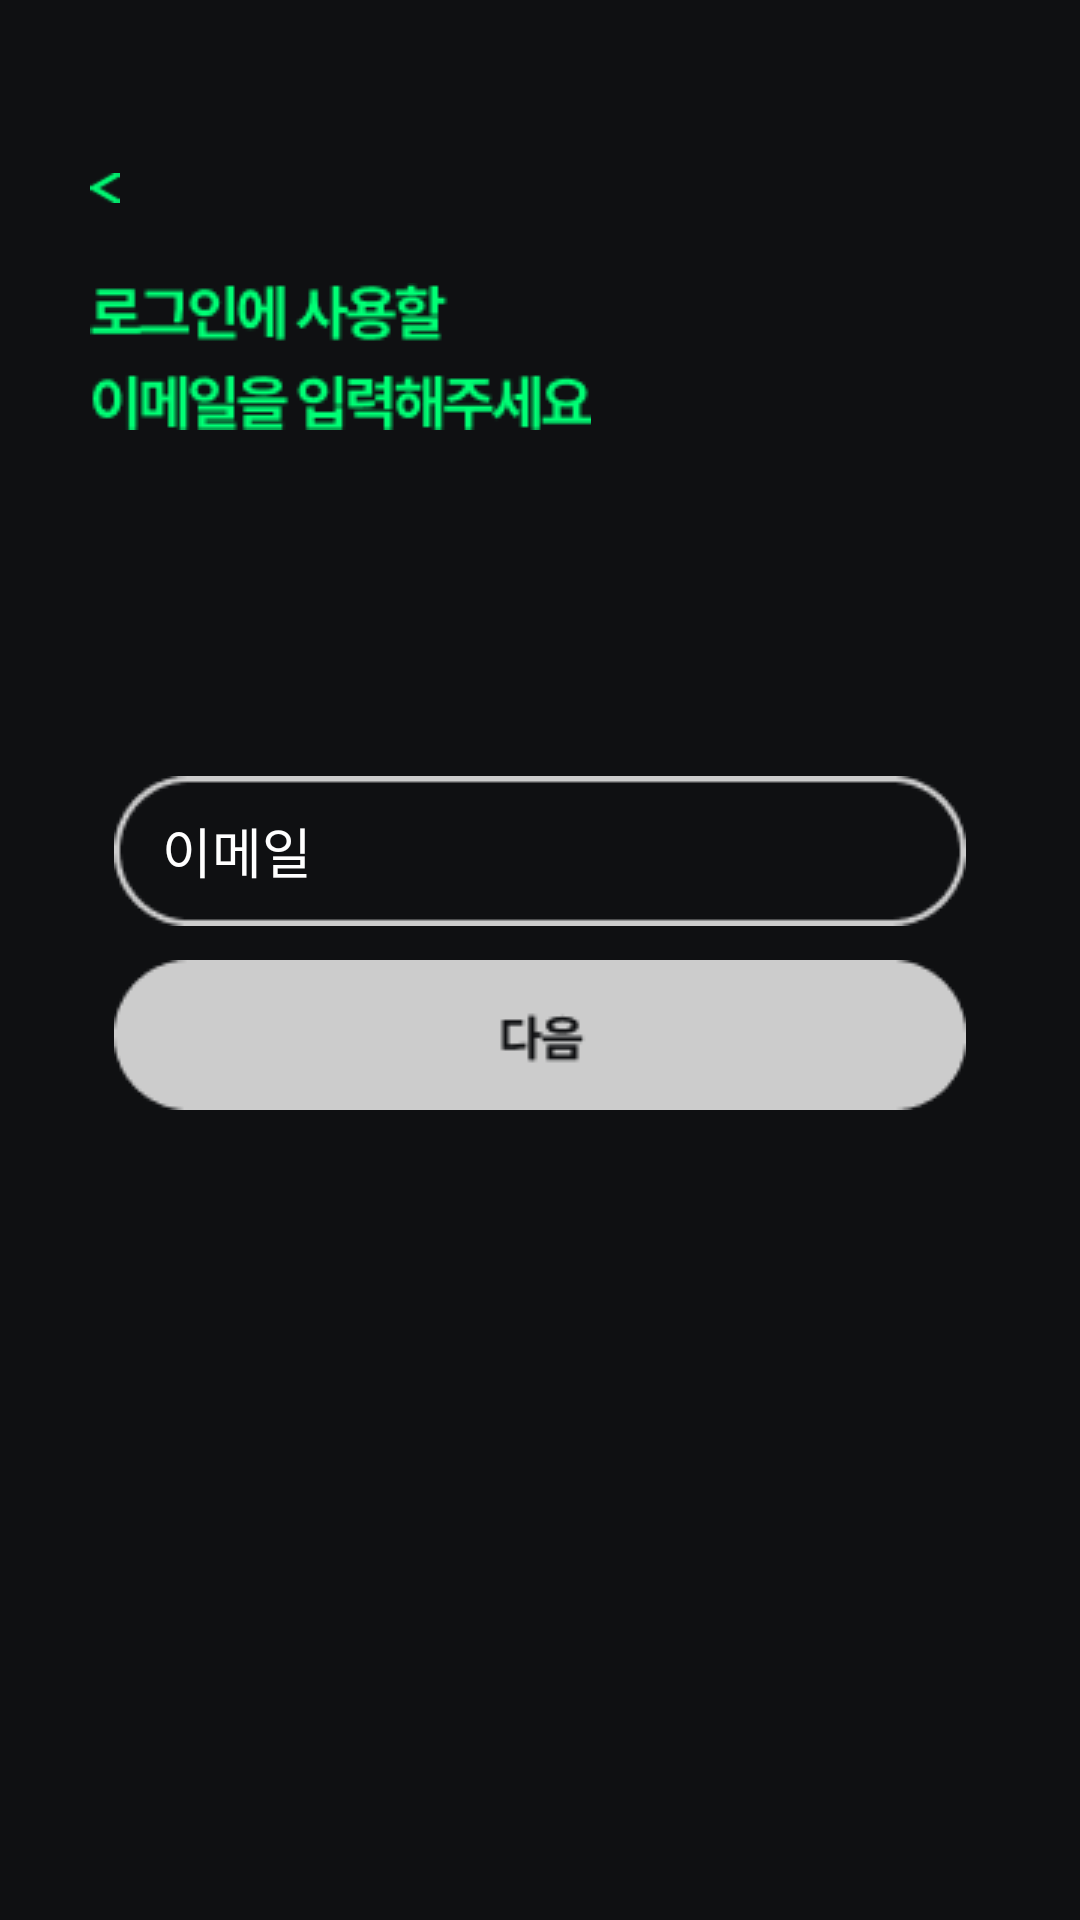

Screen size 1080*1920. Icon name, then its center in pixels as (x,y):
backbutton: (105,188)
